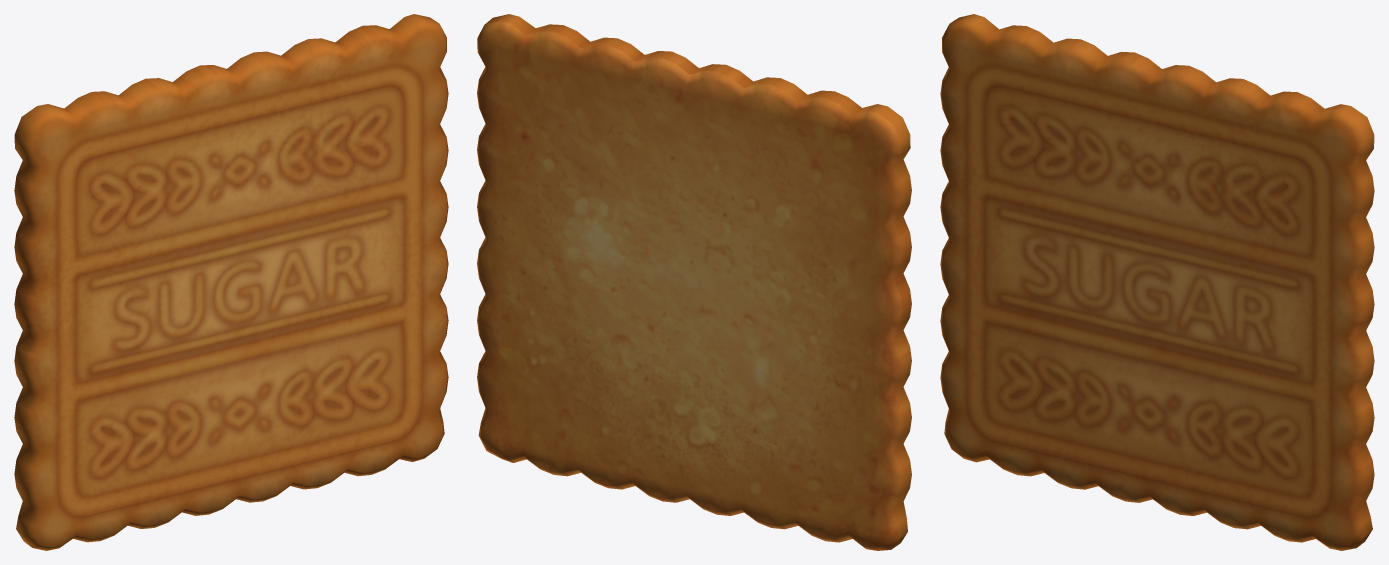
Rendered from Biscuit1 (1).fbx.
3 renders of one model, left to right at view 1: azimuth 30°, elevation 25°; view 2: azimuth 150°, elevation 25°; view 3: azimuth 330°, elevation 25°, orthographic.
Parts seen in each view (by area): view 1: polySurface11; view 2: polySurface11; view 3: polySurface11.
Part boxes in pixels (x1,y1,x2,y2): polySurface11: [14, 14, 448, 550]; polySurface11: [477, 14, 911, 550]; polySurface11: [940, 14, 1374, 550].
Bounding box in the file's own units: 200 × 198 × 14.7.
Materials: 1 (1 with a texture image).
